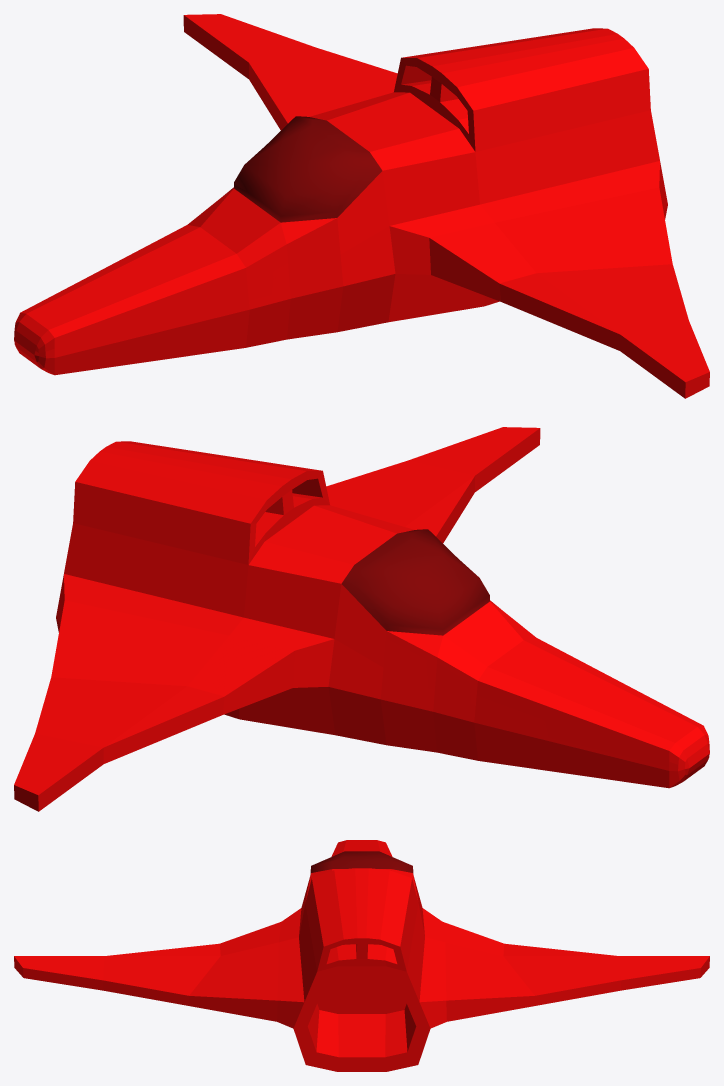
File: tank_red_4.glb
3 renders of one model, top to bottom at view 1: azimuth 30°, elevation 25°; view 2: azimuth 150°, elevation 25°; view 3: azimuth 270°, elevation 25°, orthographic. The views are drawn at different scales.
Parts seen in each view (by area): view 1: Spaceship4_Cube.001_primitive0, Spaceship4_Cube.001_primitive1; view 2: Spaceship4_Cube.001_primitive0, Spaceship4_Cube.001_primitive1; view 3: Spaceship4_Cube.001_primitive0, Spaceship4_Cube.001_primitive1.
Boxes of the visible parts, x1,y1,x2,y2 form: Spaceship4_Cube.001_primitive0: [14, 14, 709, 398]; Spaceship4_Cube.001_primitive1: [234, 116, 382, 222]; Spaceship4_Cube.001_primitive0: [14, 427, 709, 811]; Spaceship4_Cube.001_primitive1: [341, 529, 489, 635]; Spaceship4_Cube.001_primitive0: [14, 840, 709, 1071]; Spaceship4_Cube.001_primitive1: [310, 851, 413, 873].
Size of the model in its own units: 0.6867 by 0.2324 by 1.
